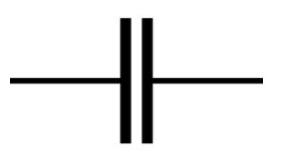Capacitor: (94, 16, 173, 144)
